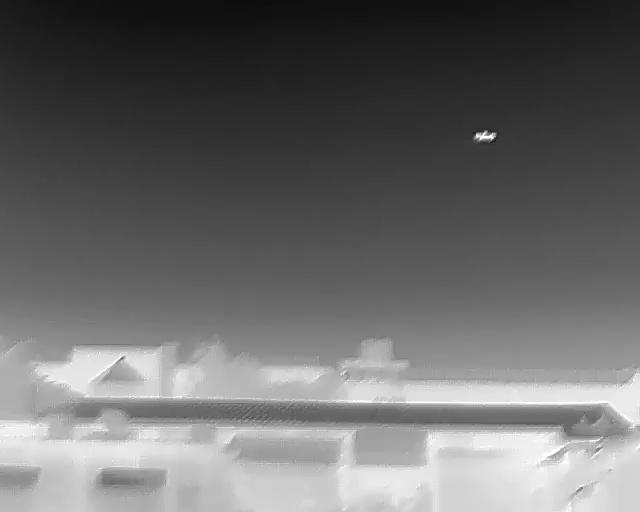fpv-drone: (473, 130, 496, 142)
